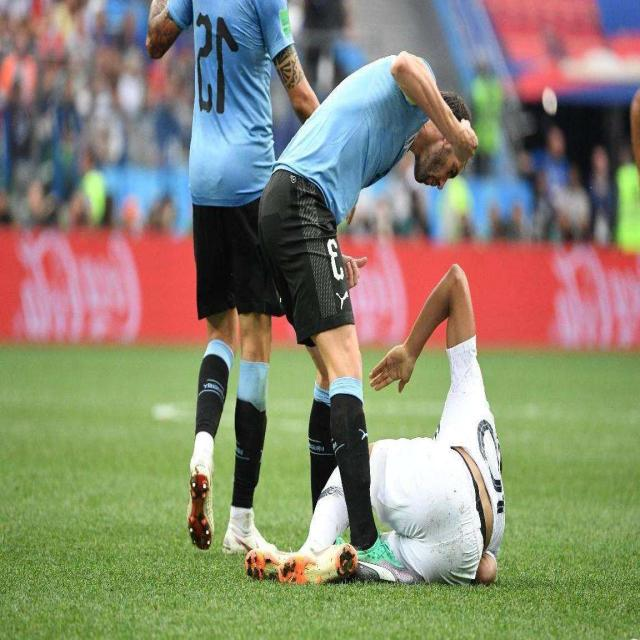nofight: (259, 42, 476, 560), (129, 0, 319, 576), (292, 258, 517, 580)
